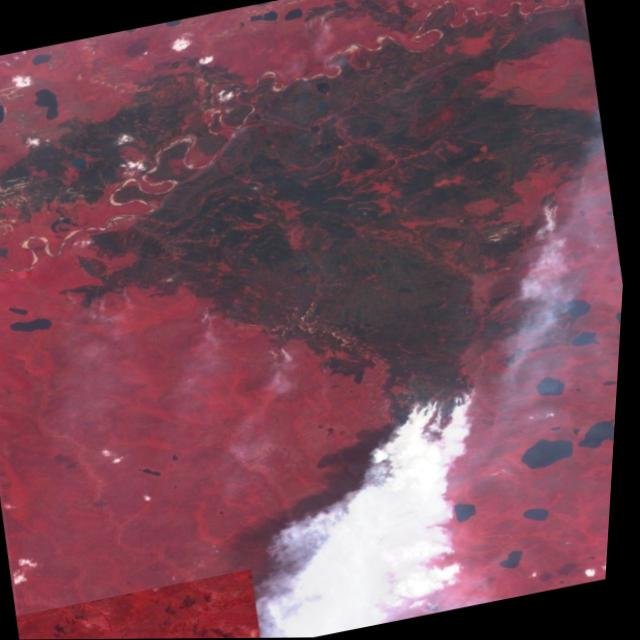fire: (377, 376, 506, 473), (51, 269, 146, 324), (290, 2, 357, 40), (531, 191, 583, 233), (256, 333, 310, 370)
